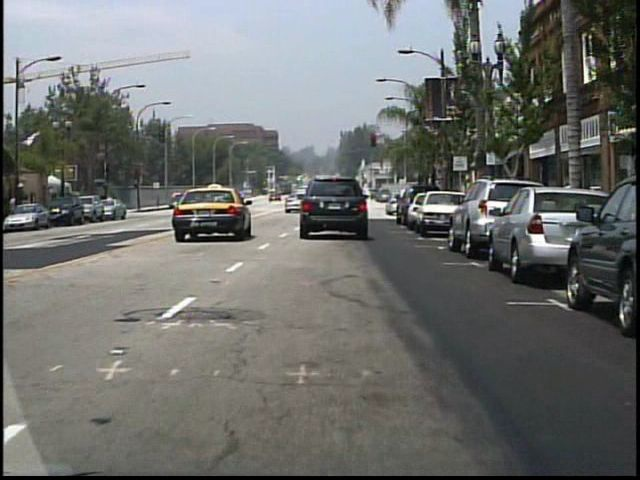person: (335, 190, 349, 213), (223, 189, 236, 212)
